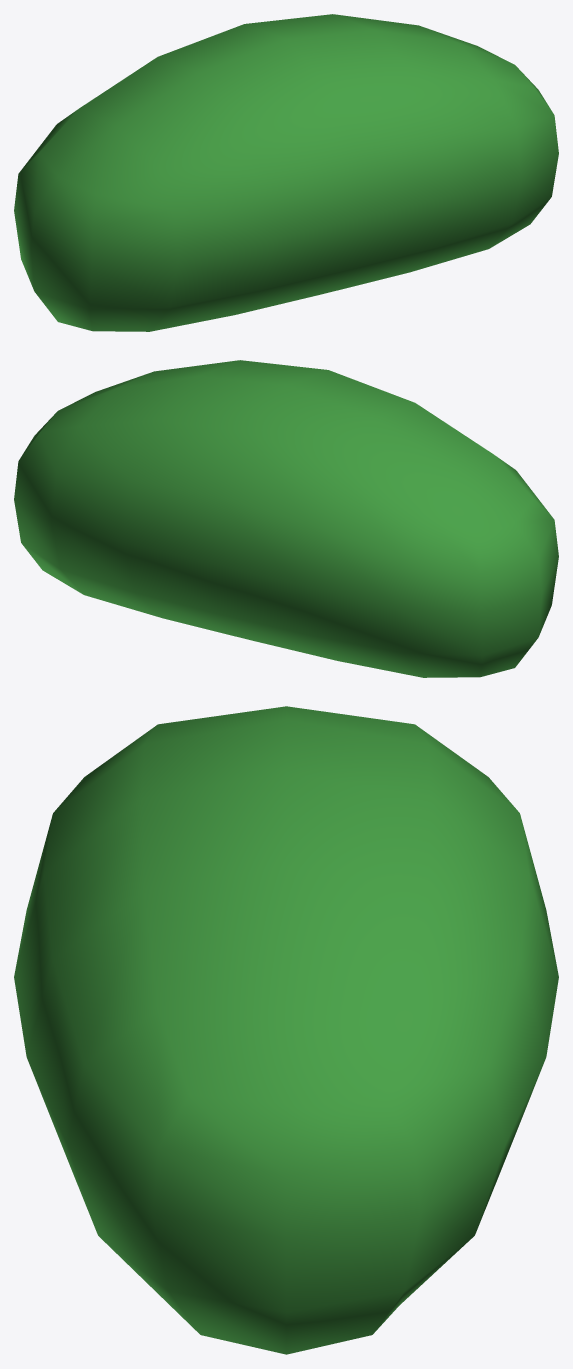
File: bush_001.fbx
The picture shows the model from 3 angles, top to bottom: view 1: azimuth 30°, elevation 25°; view 2: azimuth 150°, elevation 25°; view 3: azimuth 270°, elevation 25°; orthographic projection. The views are drawn at different scales.
Parts seen in each view (by area): view 1: bush.001; view 2: bush.001; view 3: bush.001.
Part boxes in pixels (x1,y1,x2,y2): bush.001: [14, 14, 558, 331]; bush.001: [14, 360, 558, 677]; bush.001: [14, 706, 558, 1354].
Bounding box in the file's own units: 326 × 148 × 175.
